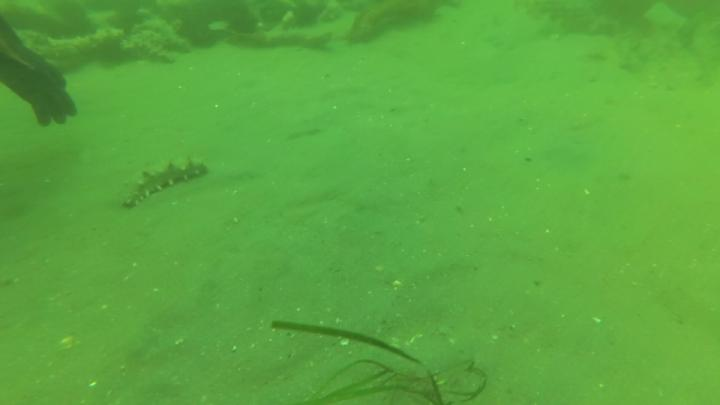holothurian: (117, 152, 212, 212), (37, 27, 124, 68), (132, 16, 199, 52), (118, 28, 177, 68)
